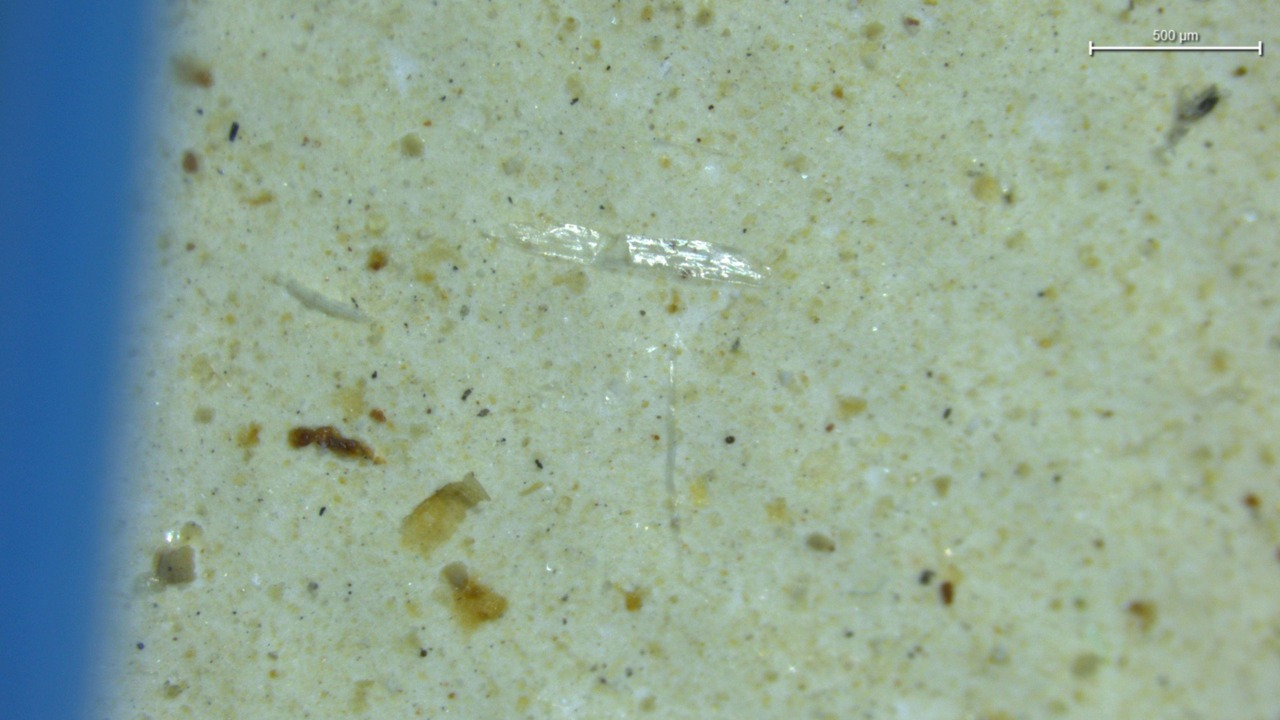microplastic_fragment: (493, 223, 764, 284), (154, 545, 194, 585)
